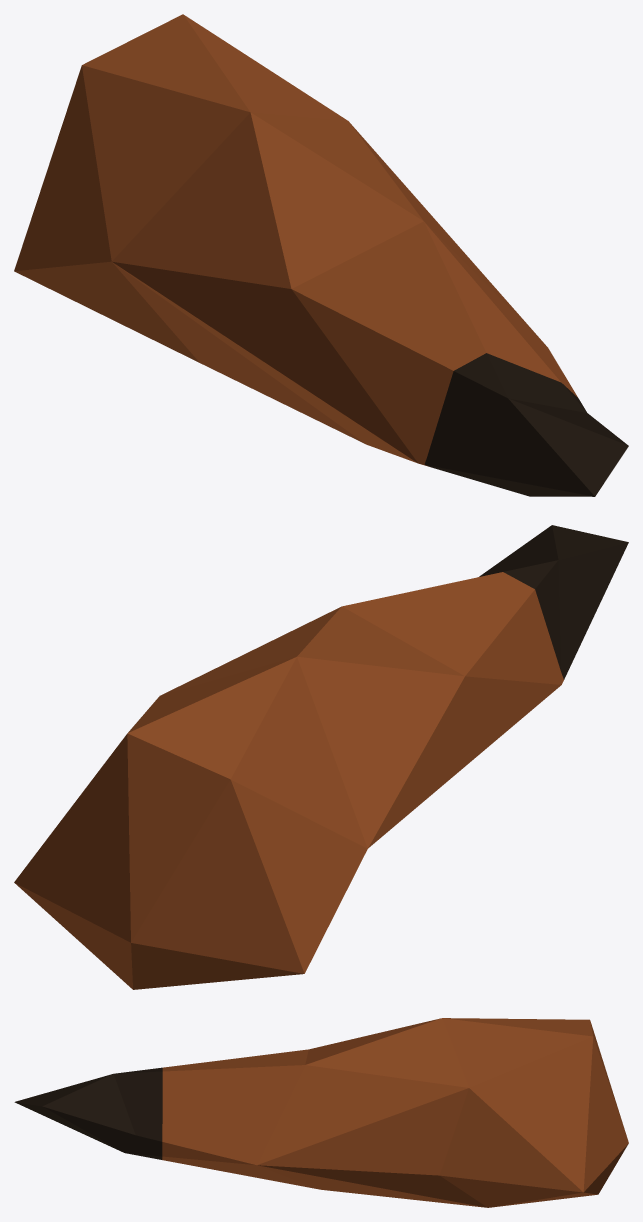
Rendered from fire_log.fbx.
3 renders of one model, top to bottom at view 1: azimuth 30°, elevation 25°; view 2: azimuth 150°, elevation 25°; view 3: azimuth 270°, elevation 25°, orthographic. The views are drawn at different scales.
Parts seen in each view (by area): view 1: Cone; view 2: Cone; view 3: Cone.
Boxes of the visible parts, x1,y1,x2,y2 form: Cone: [14, 14, 628, 496]; Cone: [14, 525, 628, 989]; Cone: [14, 1018, 628, 1207].
Size of the model in its own units: 61.43 by 56.24 by 175.
